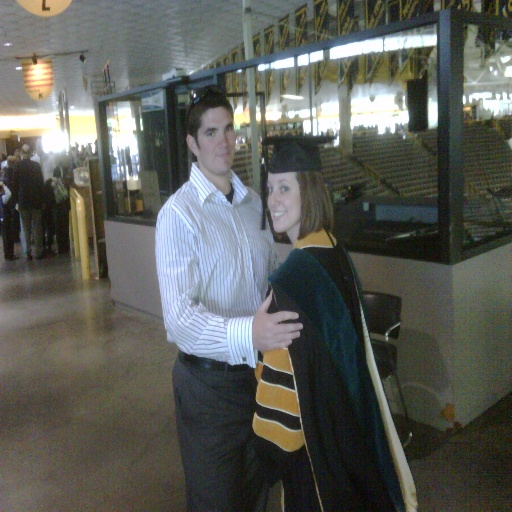hand: (249, 307, 296, 359)
